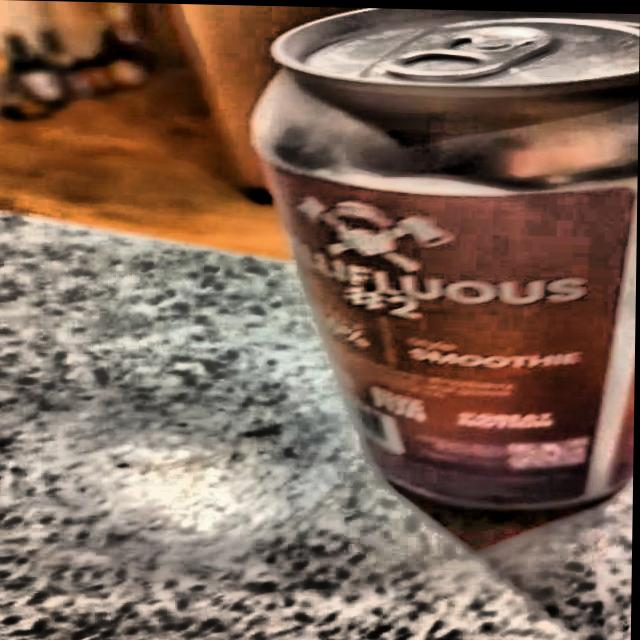can: (232, 4, 640, 529)
